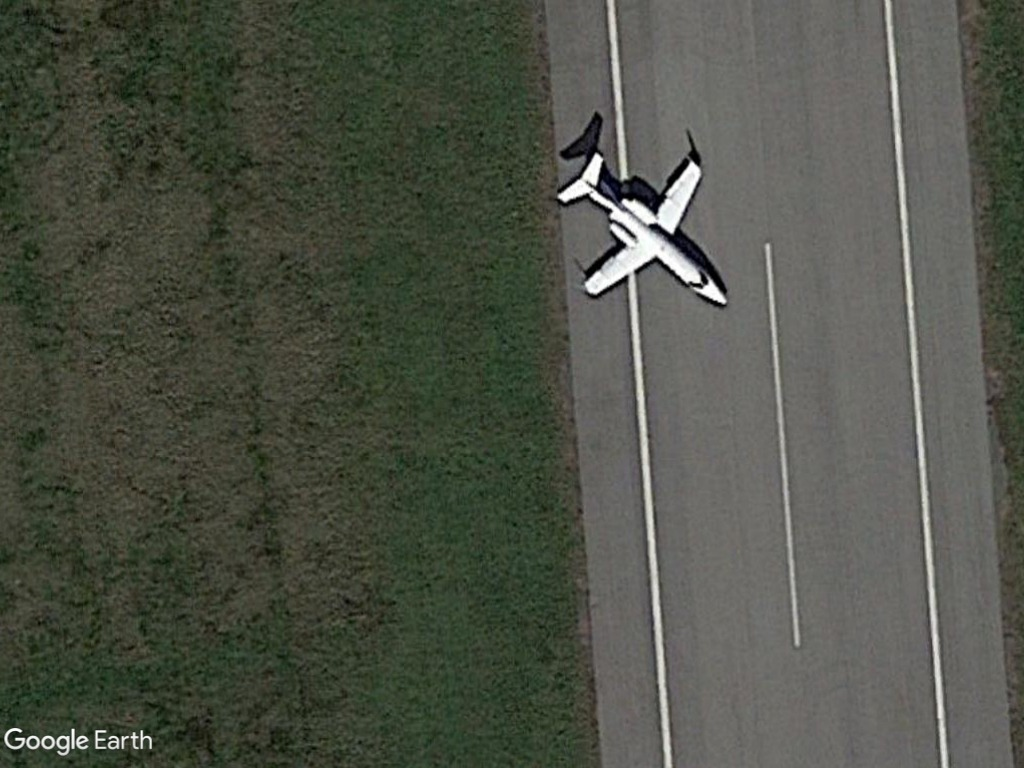chartered: (558, 143, 733, 313)
